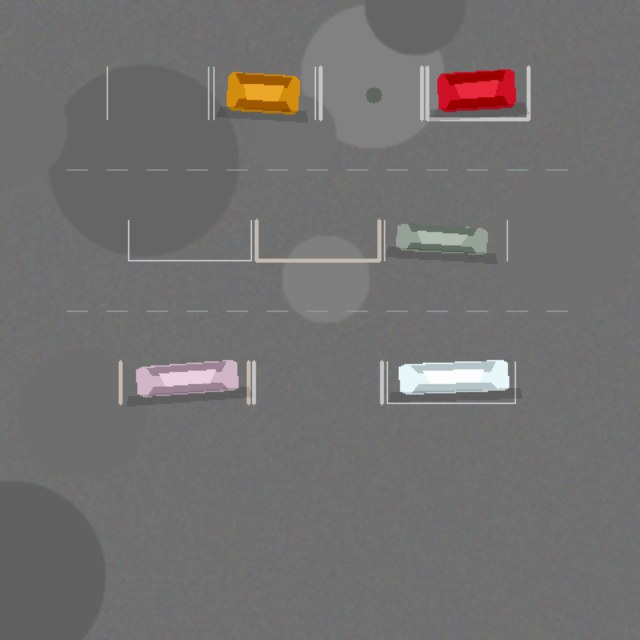space-empty: (253, 361, 381, 403), (107, 67, 208, 119), (320, 67, 421, 119), (128, 220, 251, 260), (256, 220, 379, 260)
space-occupied: (120, 361, 248, 403), (387, 361, 515, 403), (213, 67, 315, 119), (427, 67, 528, 119), (384, 220, 507, 260)
